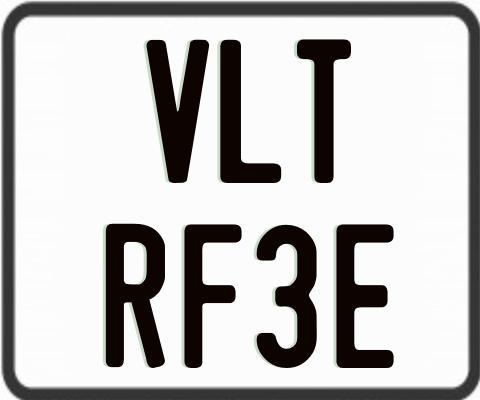3: (254, 225, 314, 372)
E: (335, 224, 395, 369)
F: (184, 223, 246, 367)
L: (217, 40, 282, 184)
R: (105, 223, 168, 373)
T: (297, 36, 357, 181)
V: (145, 37, 214, 186)
